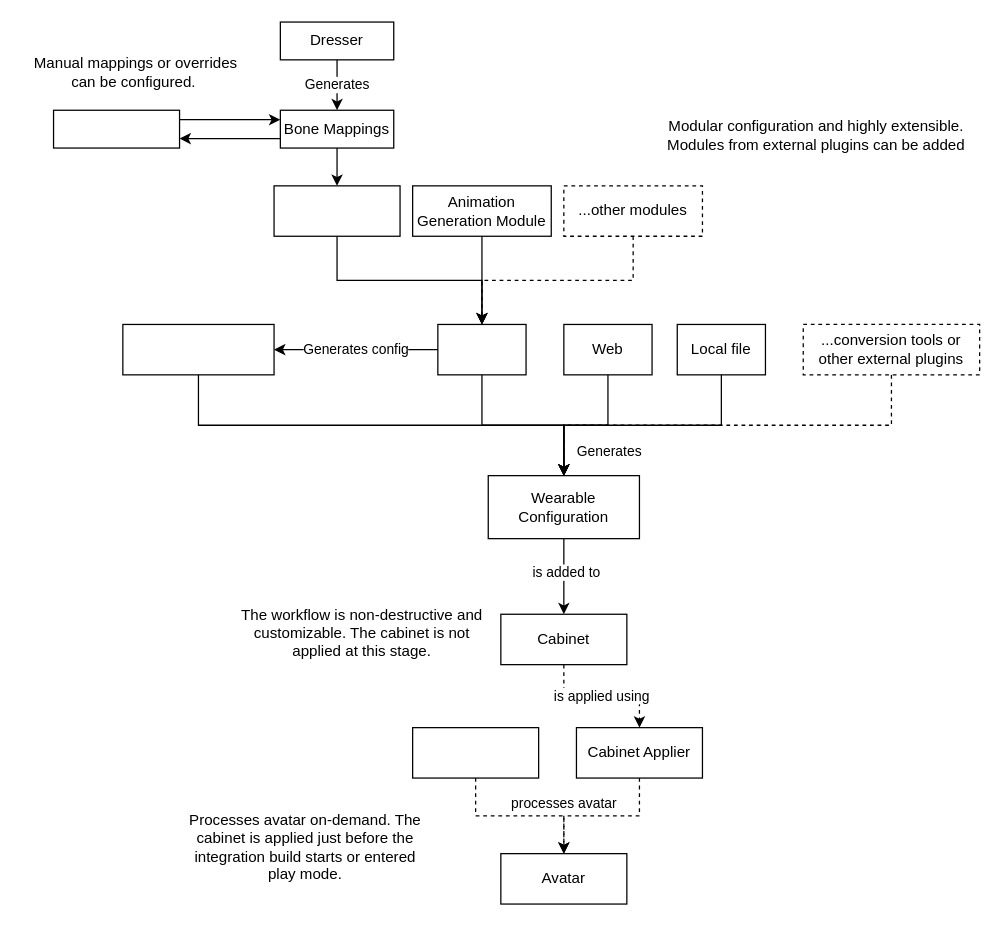
The diagram is 1002 pixels wide and 926 high, and some of its shapes have lost their labels. The centre of each missing label's shape, as x and y in pixels:
"Armature Mapping Module" goes at (x=336, y=210).
"Configuration View (Advanced Mode)" goes at (x=198, y=349).
"Integrations (i.e. VRChat)" goes at (x=475, y=752).
"Mapping Editor" goes at (x=116, y=128).
"Setup Wizard" goes at (x=481, y=349).
